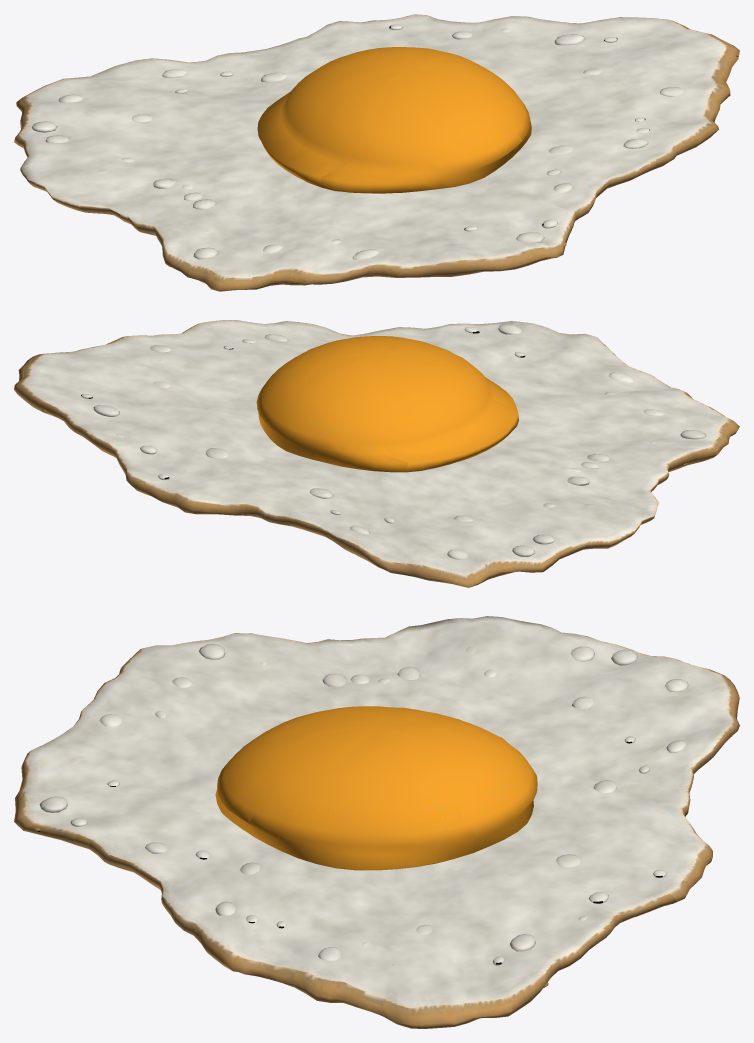
The model's file is savory-egg-sunny-2.glb.
The picture shows the model from 3 angles, top to bottom: view 1: azimuth 30°, elevation 25°; view 2: azimuth 150°, elevation 25°; view 3: azimuth 270°, elevation 25°; orthographic projection. The views are drawn at different scales.
Visible parts, largest first — view 1: savory-egg-sunny; view 2: savory-egg-sunny; view 3: savory-egg-sunny.
Boxes of the visible parts, bbox=[...] form: savory-egg-sunny: bbox=[14, 14, 739, 291]; savory-egg-sunny: bbox=[14, 320, 739, 587]; savory-egg-sunny: bbox=[14, 616, 739, 1028].
Bounding box in the file's own units: 1.65 × 0.195 × 1.27.
Materials: 2 (2 with a texture image).
